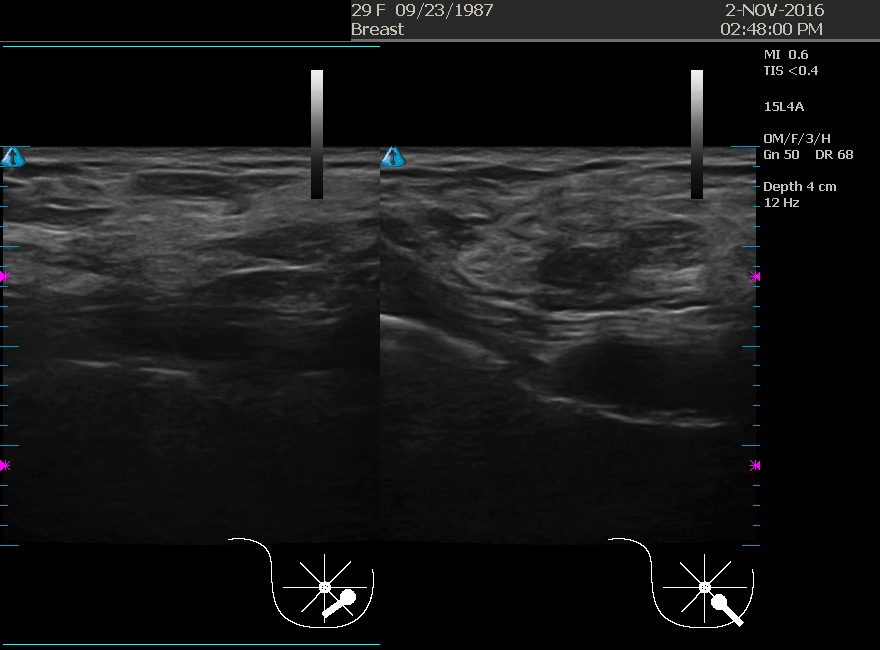BIRADS_2: (447, 153, 647, 353)
BIRADS_3: (162, 211, 362, 411)
